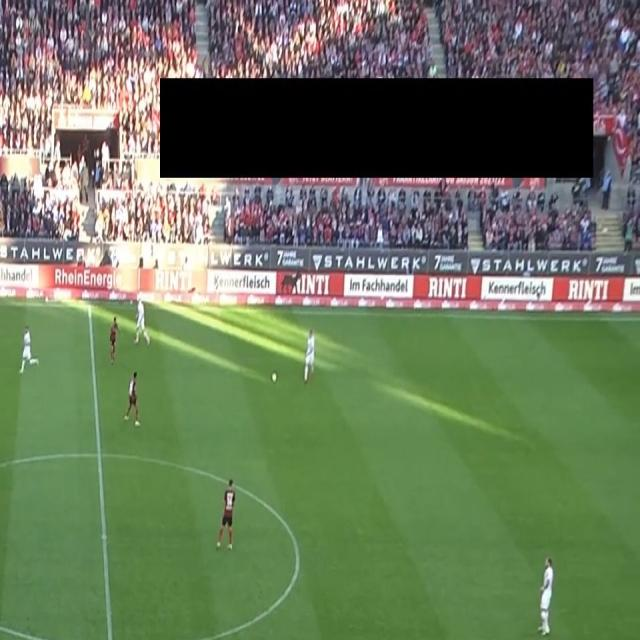ball: (271, 372, 277, 384)
